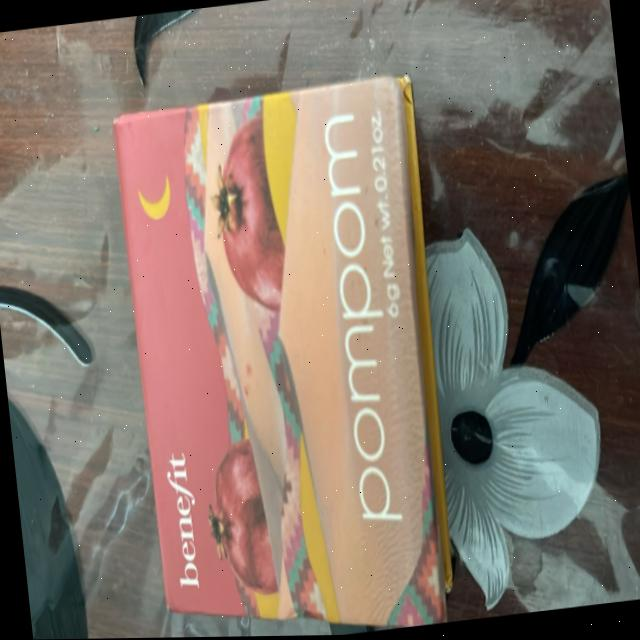makeup: (94, 36, 478, 639)
